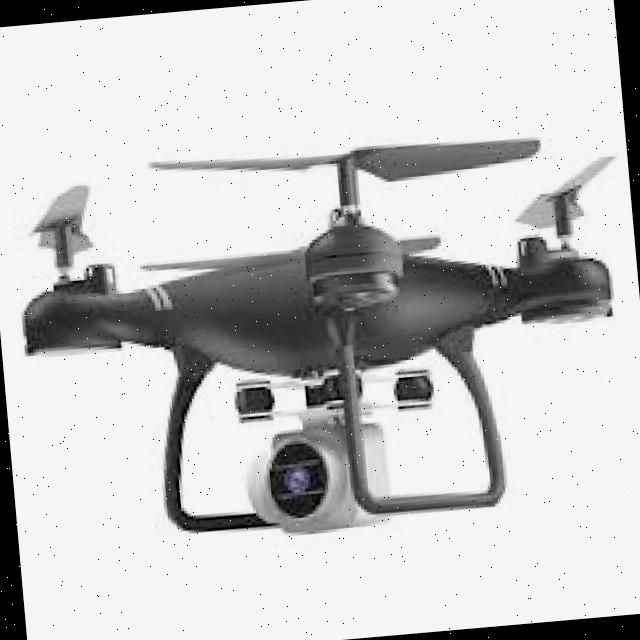drone: (0, 105, 640, 583)
